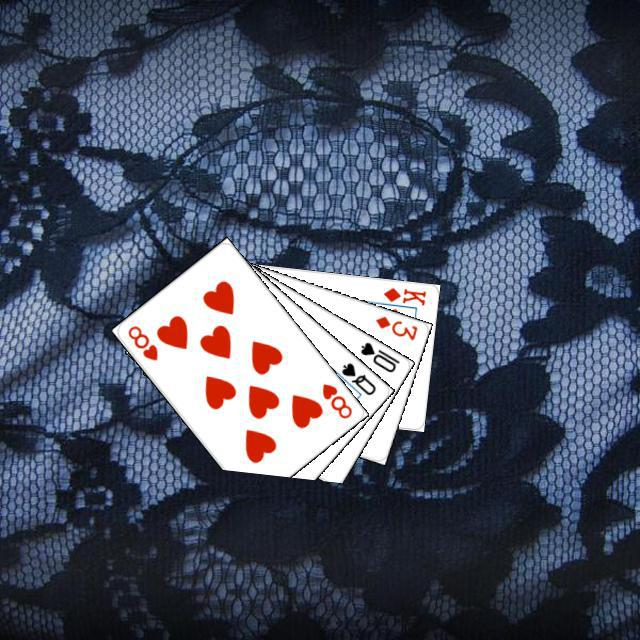10s: (355, 337, 401, 374)
3d: (371, 311, 419, 342)
8h: (317, 378, 354, 420), (123, 321, 160, 362)
Kd: (379, 283, 427, 307)
Qs: (336, 358, 378, 397)
